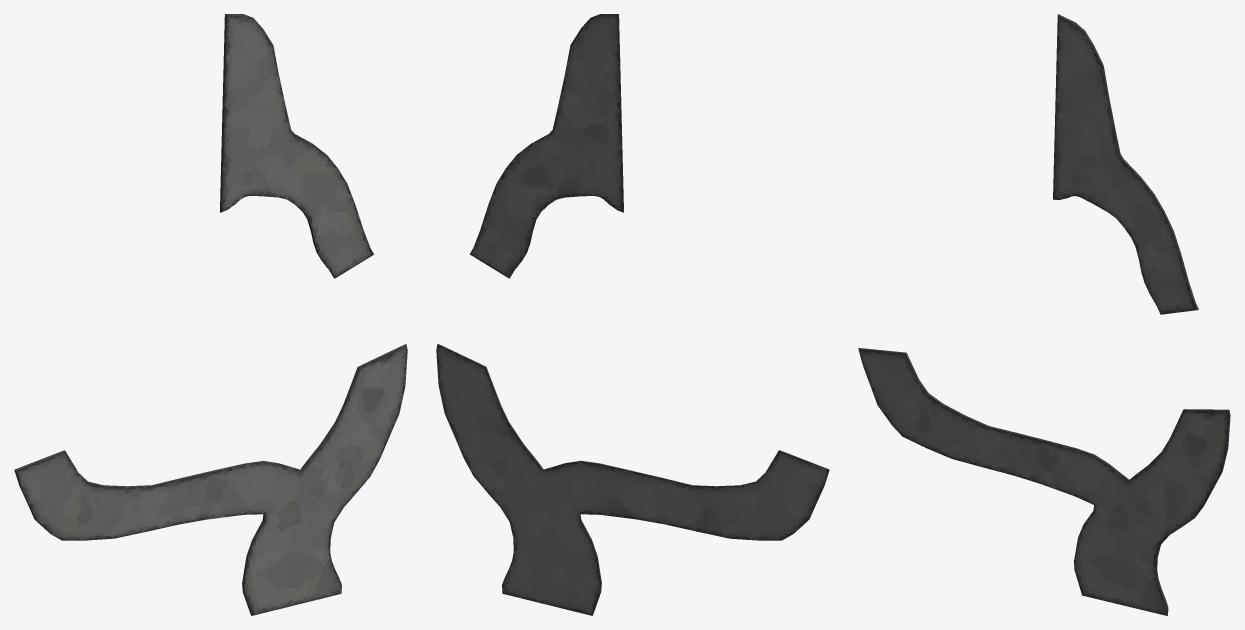
Rendered from Zone2PathTest.fbx.
The picture shows the model from 3 angles, left to right: view 1: azimuth 30°, elevation 25°; view 2: azimuth 150°, elevation 25°; view 3: azimuth 330°, elevation 25°; orthographic projection. The views are drawn at different scales.
Parts seen in each view (by area): view 1: Plane.001; view 2: Plane.001; view 3: Plane.001.
Part boxes in pixels (left/top/right/bottom): Plane.001: left=14, top=14, right=407, bottom=615; Plane.001: left=436, top=14, right=829, bottom=615; Plane.001: left=858, top=14, right=1230, bottom=615.
Bounding box in the file's own units: 2395 × 3542 × 12.81.
1 material, 1 textured.
